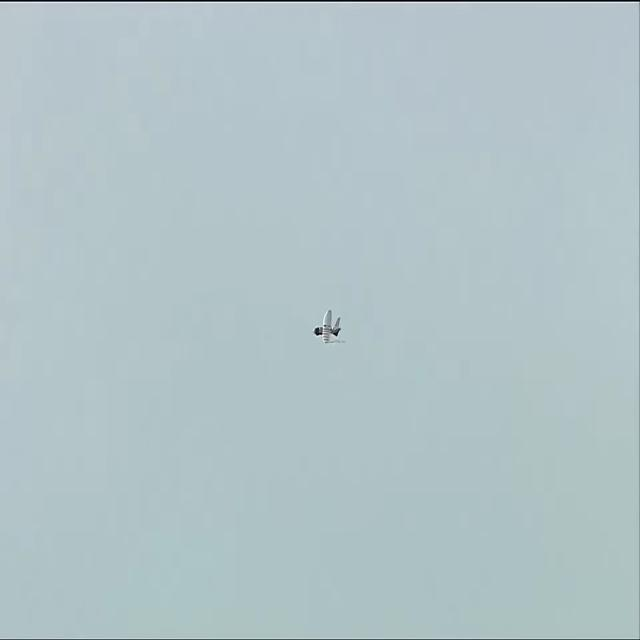iha: (305, 309, 336, 342)
